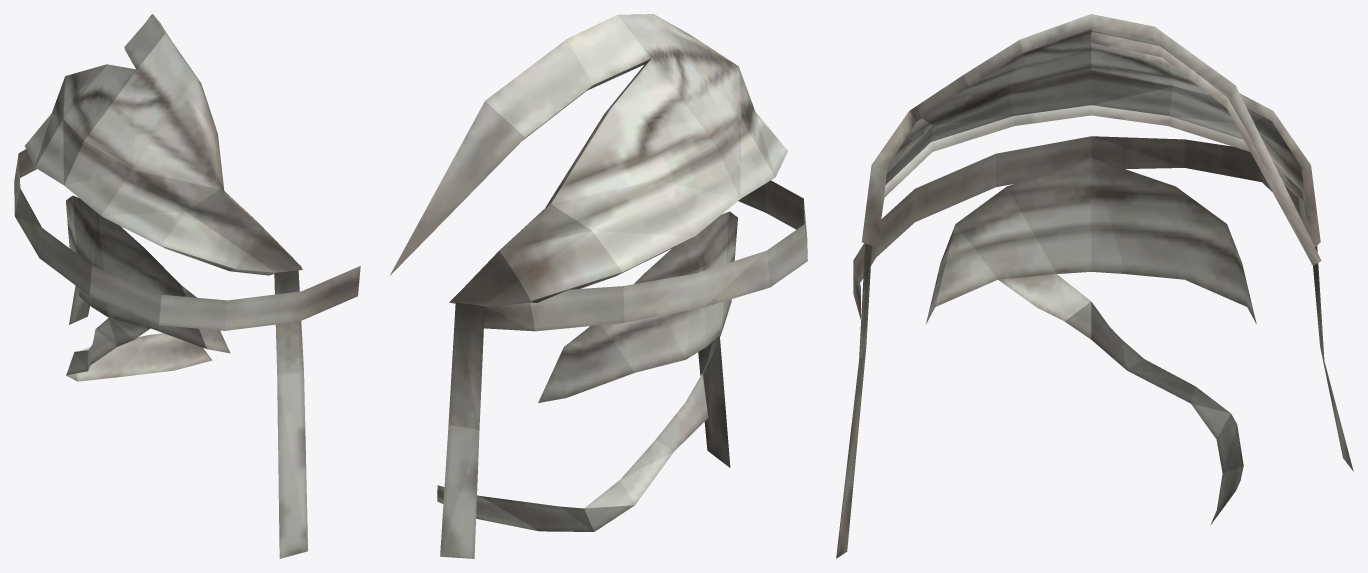
The model's file is Wolf_mummyHead.obj.
3 renders of one model, left to right at view 1: azimuth 30°, elevation 25°; view 2: azimuth 150°, elevation 25°; view 3: azimuth 270°, elevation 25°, orthographic. The views are drawn at different scales.
Parts seen in each view (by area): view 1: Wolf_mummyHead_tri; view 2: Wolf_mummyHead_tri; view 3: Wolf_mummyHead_tri.
Boxes of the visible parts, x1,y1,x2,y2 form: Wolf_mummyHead_tri: (14, 14, 360, 558); Wolf_mummyHead_tri: (390, 14, 807, 558); Wolf_mummyHead_tri: (836, 14, 1353, 558).
Size of the model in its own units: 0.1583 by 0.3057 by 0.2699.
Materials: 1 (1 with a texture image).
